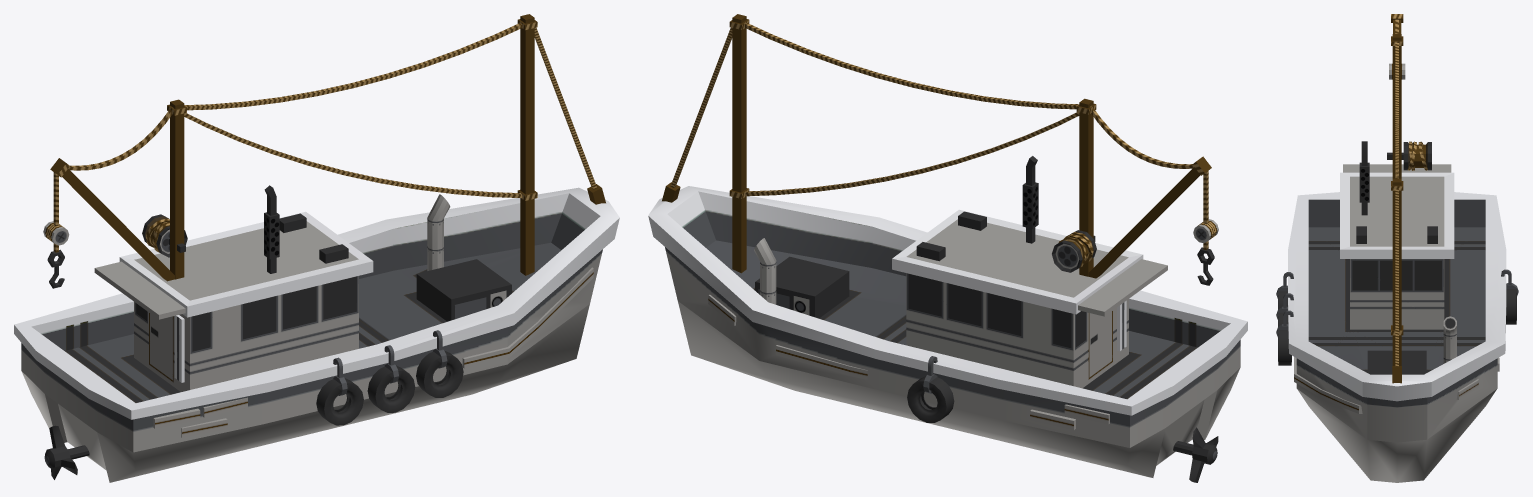
File: Boat.glb
3 views of the same model, side by side, from view 1: azimuth 30°, elevation 25°; view 2: azimuth 150°, elevation 25°; view 3: azimuth 270°, elevation 25° (orthographic). The views are drawn at different scales.
Visible parts, largest first — view 1: node-0; view 2: node-0; view 3: node-0.
Boxes of the visible parts, x1,y1,x2,y2 form: node-0: [14, 14, 619, 482]; node-0: [648, 14, 1247, 482]; node-0: [1276, 14, 1518, 482].
Size of the model in its own units: 929 by 558 by 410.
1 material, 1 textured.
